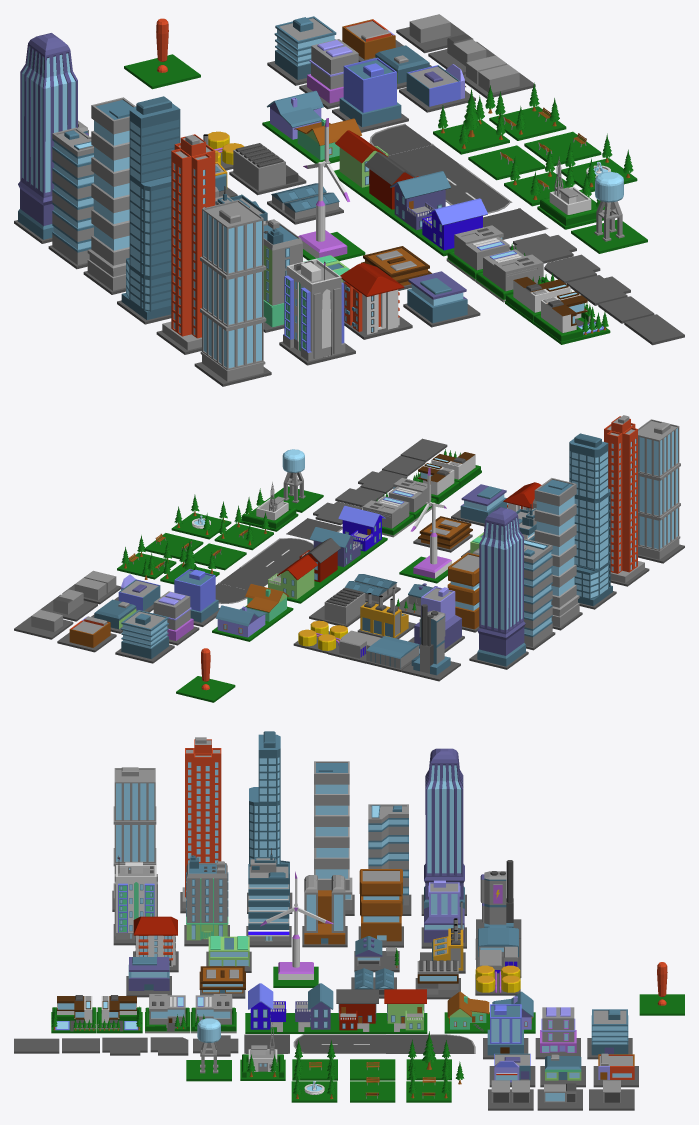
Rendered from PropertyAntoTown.fbx.
The picture shows the model from 3 angles, top to bottom: view 1: azimuth 30°, elevation 25°; view 2: azimuth 150°, elevation 25°; view 3: azimuth 270°, elevation 25°; orthographic projection. The views are drawn at different scales.
Visible parts, largest first — view 1: HighResident1, HighResident3, HighComercial2, HighResident2, HighComercial3, MediumResident1, HighComercial1, LowResident, RichComercial3, MediumResident2, WaterSupply, LowComercial3 (+42 smaller); view 2: HighComercial2, HighResident3, HighResident1, HighResident2, HighComercial3, HighComercial1, BigIndustry4, RichComercial2, MediumComercialx23, RichComercial3, Industry4, MediumHouse1 (+47 smaller); view 3: HighComercial2, HighComercial3, HighResident2, HighResident1, HighResident3, MediumResident3, MediumResident2, MediumComercialx23, HighComercial1, MediumResident1, MediumComercialx22, BigIndustry4 (+51 smaller).
Part boxes in pixels (x1=…): HighResident1: x1=194, y1=200, x2=271, y2=386; HighResident3: x1=117, y1=96, x2=180, y2=324; HighComercial2: x1=14, y1=33, x2=77, y2=243; HighResident2: x1=156, y1=134, x2=215, y2=354; HighComercial3: x1=83, y1=97, x2=135, y2=294; MediumResident1: x1=279, y1=258, x2=355, y2=365; HighComercial1: x1=48, y1=127, x2=93, y2=269; LowResident: x1=340, y1=263, x2=412, y2=339; RichComercial3: x1=332, y1=57, x2=408, y2=132; MediumResident2: x1=263, y1=219, x2=302, y2=332; WaterSupply: x1=571, y1=171, x2=647, y2=253; LowComercial3: x1=403, y1=271, x2=480, y2=327; HighComercial2: x1=469, y1=507, x2=528, y2=669; HighResident3: x1=569, y1=433, x2=616, y2=609; HighResident1: x1=638, y1=419, x2=684, y2=563; HighResident2: x1=604, y1=415, x2=649, y2=586; HighComercial3: x1=534, y1=478, x2=582, y2=630; HighComercial1: x1=524, y1=538, x2=555, y2=650; BigIndustry4: x1=401, y1=604, x2=460, y2=681; RichComercial2: x1=115, y1=610, x2=174, y2=663; MediumComercialx23: x1=447, y1=552, x2=479, y2=632; RichComercial3: x1=174, y1=569, x2=219, y2=626; Industry4: x1=357, y1=587, x2=415, y2=638; MediumHouse1: x1=268, y1=554, x2=322, y2=603; HighComercial2: x1=421, y1=748, x2=466, y2=915; HighComercial3: x1=314, y1=761, x2=354, y2=915; HighResident2: x1=180, y1=737, x2=221, y2=913; HighResident1: x1=112, y1=767, x2=156, y2=911; HighResident3: x1=247, y1=731, x2=292, y2=913; MediumResident3: x1=246, y1=848, x2=291, y2=947; MediumResident2: x1=184, y1=855, x2=229, y2=946; MediumComercialx23: x1=358, y1=869, x2=403, y2=947; HighComercial1: x1=368, y1=804, x2=411, y2=915; MediumResident1: x1=113, y1=856, x2=157, y2=945; MediumComercialx22: x1=302, y1=875, x2=347, y2=947; BigIndustry4: x1=476, y1=860, x2=521, y2=938.
Size of the model in its own units: 1119 by 418 by 1476.
Materials: 1 (1 with a texture image).
